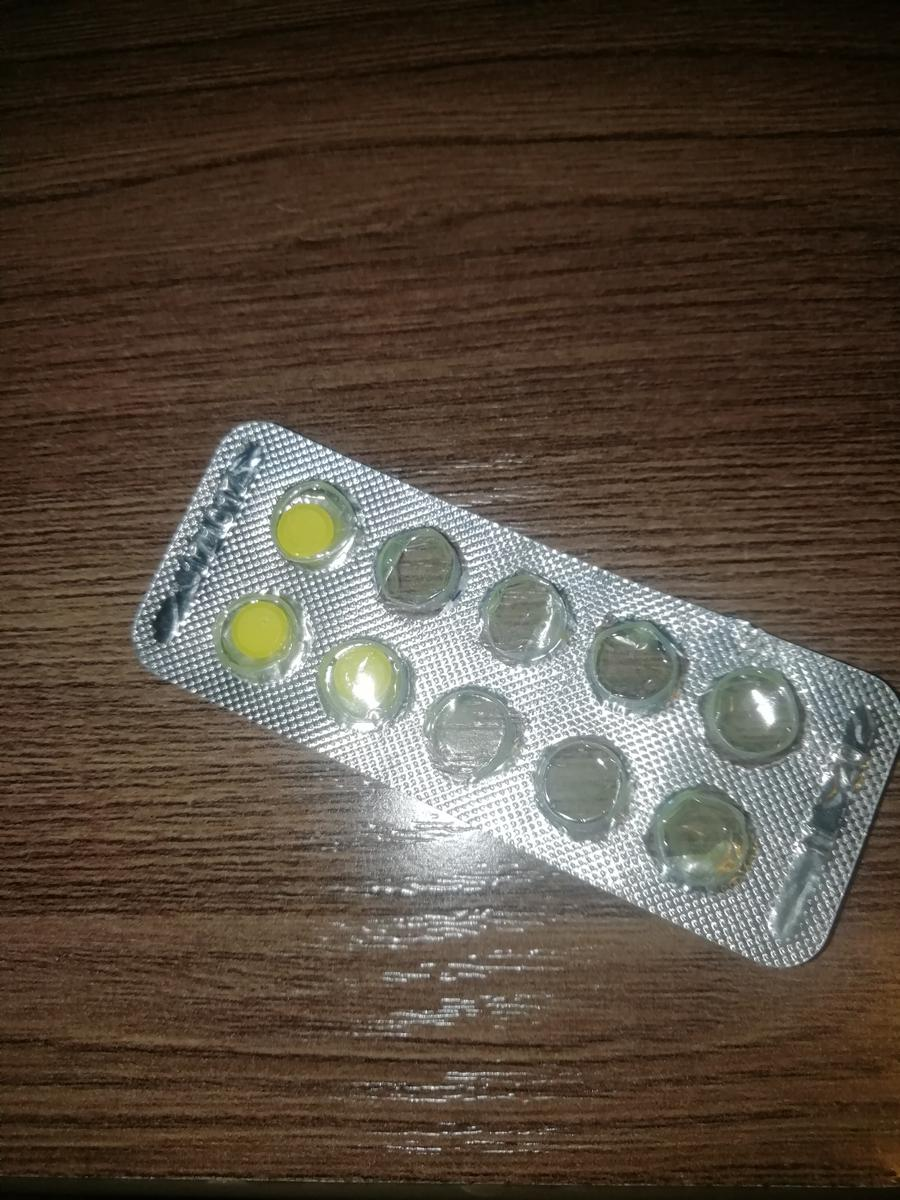tablet: (264, 472, 363, 572), (208, 582, 307, 682), (320, 637, 419, 737)
